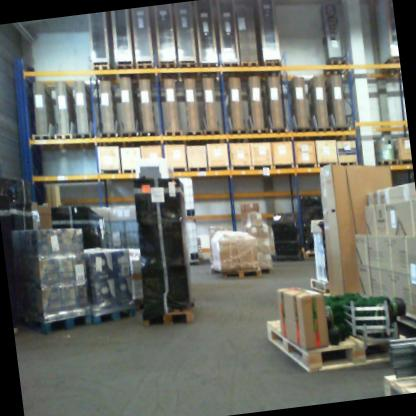pallet: (263, 300, 399, 382), (17, 298, 96, 343), (141, 289, 204, 334), (91, 298, 140, 330), (209, 255, 261, 283), (311, 273, 342, 301), (156, 54, 183, 84), (377, 47, 400, 82), (238, 54, 261, 82), (136, 55, 156, 87), (259, 56, 285, 80), (324, 55, 351, 78), (116, 57, 137, 86), (91, 58, 112, 86), (160, 125, 188, 145), (197, 55, 217, 83), (218, 57, 242, 80), (177, 59, 199, 83), (266, 121, 291, 142), (288, 120, 314, 139), (31, 128, 55, 148), (225, 125, 248, 145), (68, 126, 93, 144), (313, 119, 339, 135), (254, 258, 273, 279), (332, 121, 356, 137), (246, 120, 267, 138), (94, 126, 119, 141), (50, 131, 74, 146), (180, 125, 203, 139), (186, 162, 207, 177), (117, 128, 140, 141), (201, 126, 222, 139), (138, 125, 156, 140), (374, 155, 398, 166), (120, 165, 143, 176), (340, 155, 359, 168)
